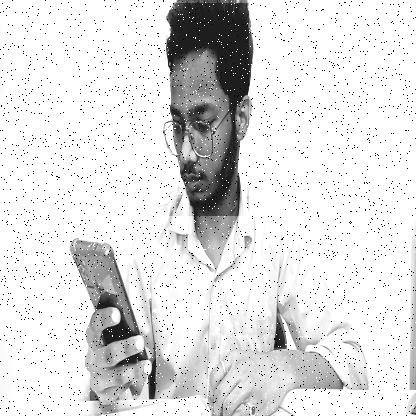Distracted: (158, 3, 249, 216)
